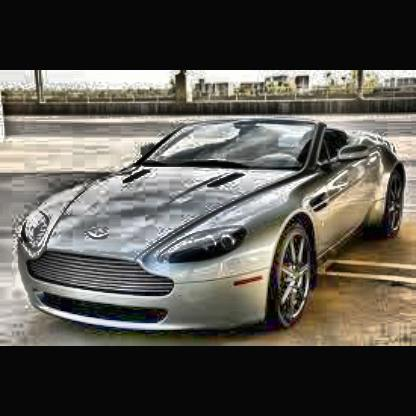Aston Martin V8 Vantage Convertible 2012: (18, 117, 411, 340)
